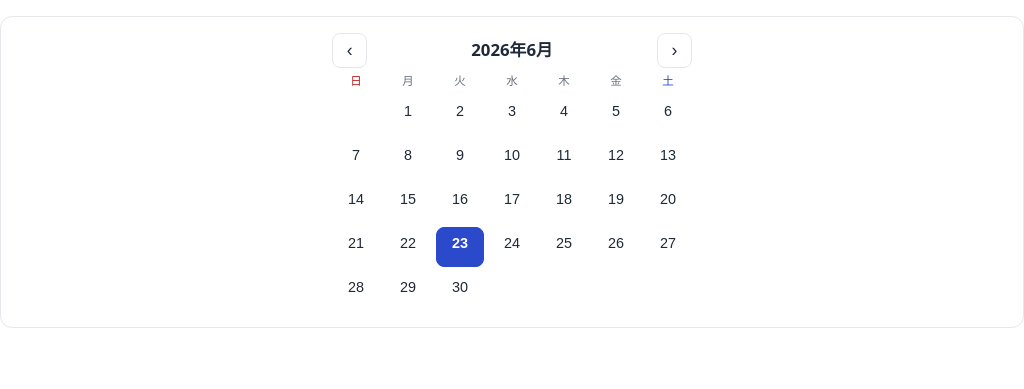
Test case: EditorDateCalendar › 前の月 / 次の月で表示月が変わる
The image size is (1024, 389).
Click the button named "次の月".
click(674, 51)  # box 657,33 -> 692,68
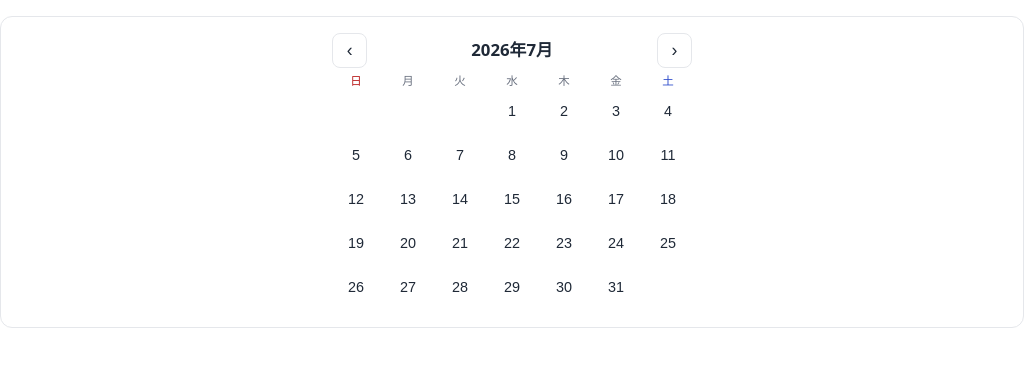
Result: the heading "2026年7月" is shown at 471,37 -> 553,64
Click the button named "前の月".
click(350, 51)  # box 332,33 -> 367,68
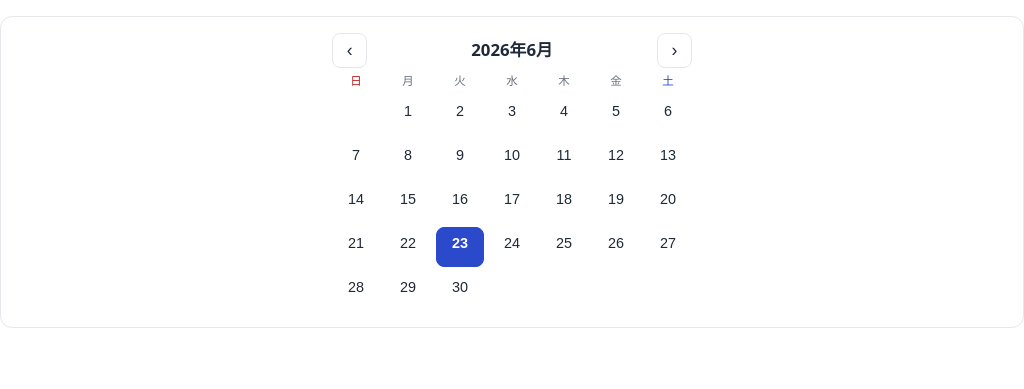
Click the button named "前の月".
click(350, 51)  # box 332,33 -> 367,68
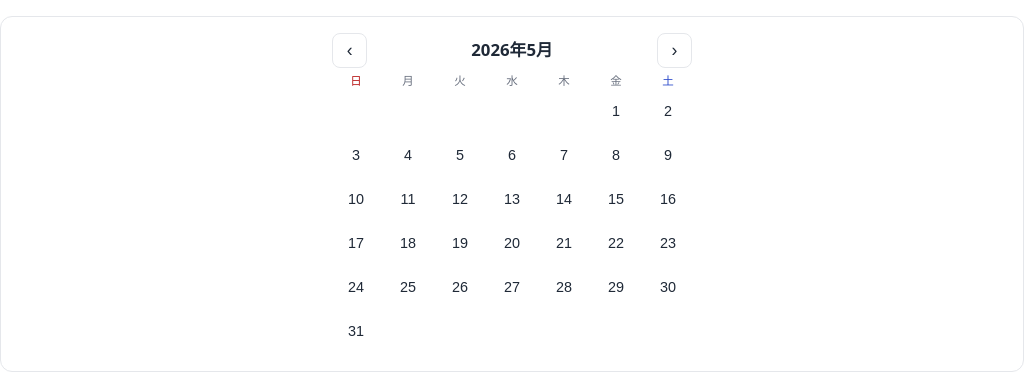
Result: the heading "2026年5月" is shown at 471,37 -> 553,64
